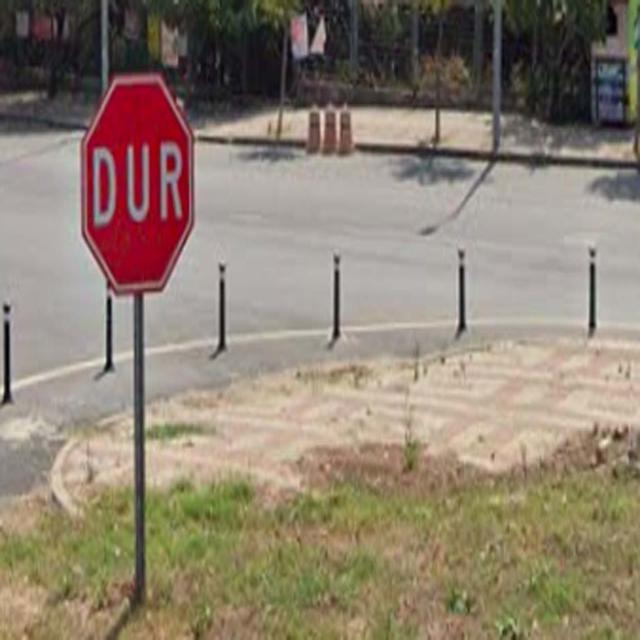dur: (80, 71, 196, 296)
